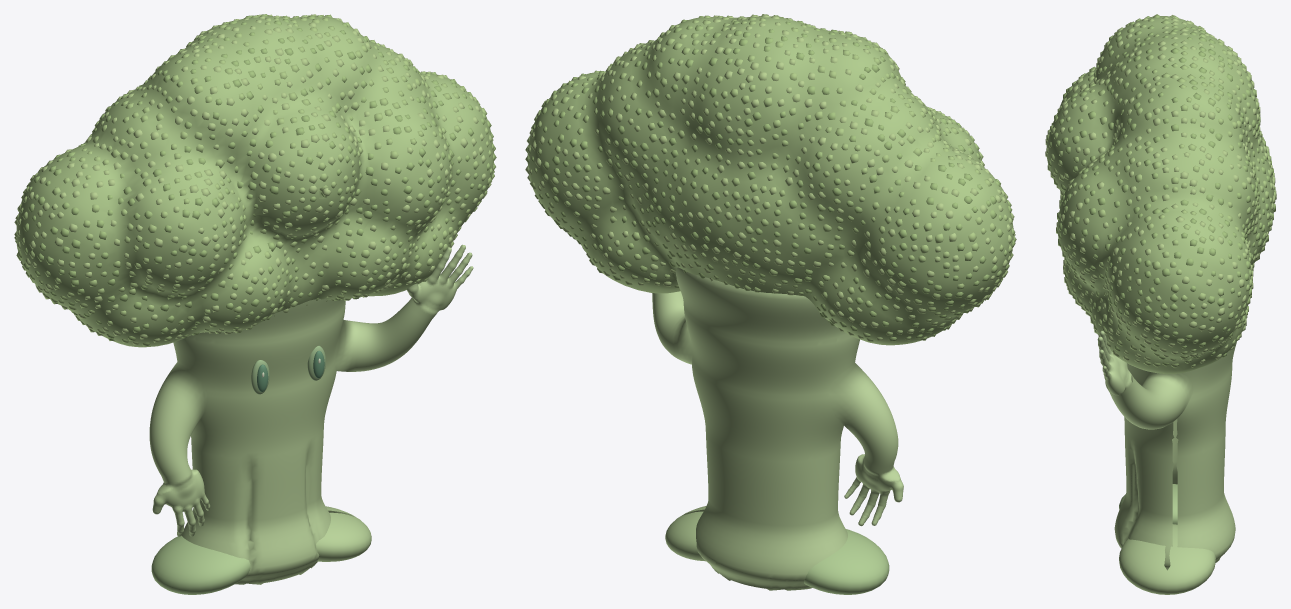
The model's file is gobhi-wave.glb.
The picture shows the model from 3 angles, left to right: view 1: azimuth 30°, elevation 25°; view 2: azimuth 150°, elevation 25°; view 3: azimuth 270°, elevation 25°; orthographic projection. The views are drawn at different scales.
Visible parts, largest first — view 1: crown, stem, florets-c, florets-b, florets-a, arm-left, arm-right, root-left, root-right; view 2: crown, stem, florets-b, florets-c, florets-a, arm-left, root-left, arm-right, root-right; view 3: crown, stem, florets-b, florets-c, florets-a, arm-right, root-right.
Boxes of the visible parts, left/top/right/bottom form: crown: left=16, top=15, right=493, bottom=347; stem: left=173, top=298, right=345, bottom=584; florets-c: left=14, top=14, right=493, bottom=344; florets-b: left=14, top=15, right=495, bottom=342; florets-a: left=14, top=14, right=496, bottom=346; arm-left: left=149, top=362, right=210, bottom=536; arm-right: left=334, top=244, right=473, bottom=371; root-left: left=151, top=535, right=250, bottom=594; root-right: left=316, top=506, right=371, bottom=561; crown: left=527, top=16, right=1013, bottom=345; stem: left=675, top=267, right=859, bottom=590; florets-b: left=527, top=14, right=1013, bottom=341; florets-c: left=525, top=14, right=1015, bottom=340; florets-a: left=525, top=15, right=1016, bottom=341; arm-left: left=828, top=363, right=903, bottom=526; root-left: left=804, top=529, right=889, bottom=594; arm-right: left=652, top=291, right=692, bottom=364; root-right: left=665, top=506, right=706, bottom=561; crown: left=1046, top=16, right=1274, bottom=374; stem: left=1114, top=267, right=1253, bottom=570; florets-b: left=1046, top=15, right=1275, bottom=367; florets-c: left=1045, top=14, right=1275, bottom=363; florets-a: left=1048, top=15, right=1276, bottom=366; arm-right: left=1097, top=331, right=1193, bottom=429; root-right: left=1119, top=524, right=1215, bottom=594.
Bounding box in the file's own units: 2.29 × 2.57 × 1.04.
